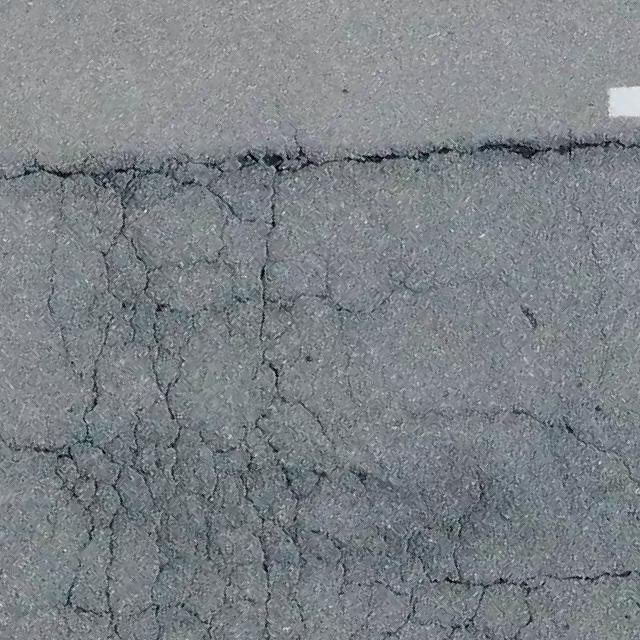GRIETA: (512, 406, 639, 481), (571, 204, 610, 394), (339, 139, 639, 163), (351, 277, 437, 316), (0, 433, 65, 454), (541, 570, 639, 581)
PIEL DE COCODRILO: (0, 145, 562, 639)
